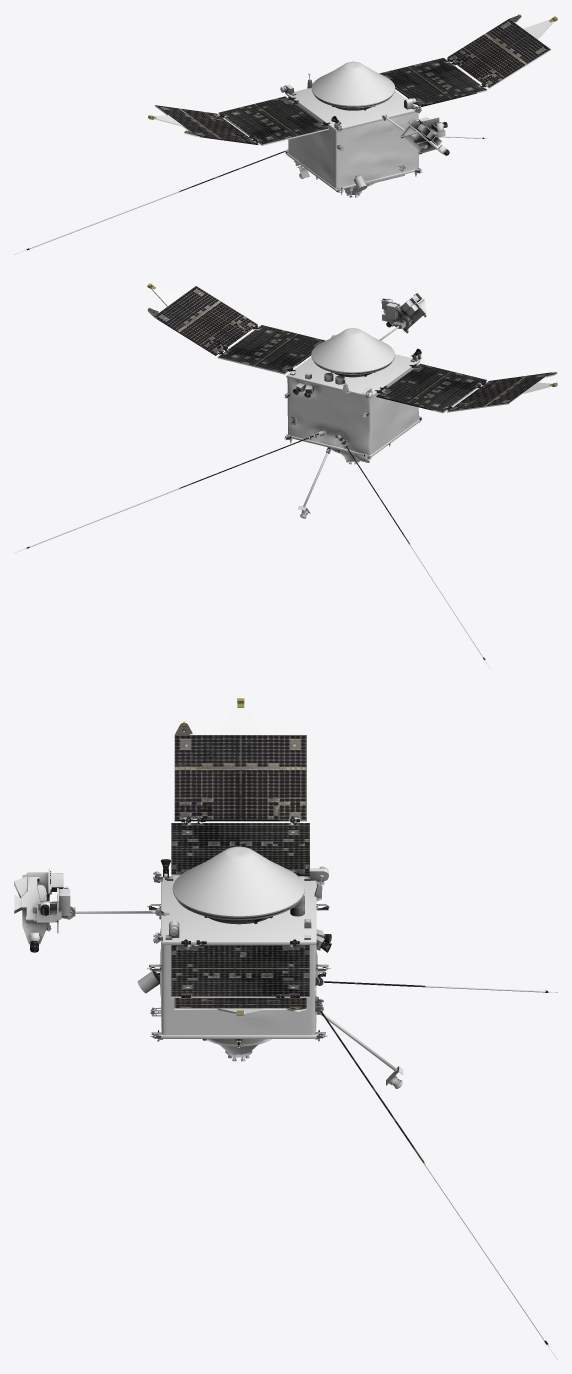
File: 24882_Maven.glb
3 renders of one model, top to bottom at view 1: azimuth 30°, elevation 25°; view 2: azimuth 150°, elevation 25°; view 3: azimuth 270°, elevation 25°, orthographic. The views are drawn at different scales.
Parts seen in each view (by area): view 1: shiny_panel, BUS, foil_silver, tex_01, parts, dish_frame; view 2: shiny_panel, BUS, tex_01, foil_silver, parts; view 3: shiny_panel, BUS, foil_silver, parts, tex_01.
Boxes of the visible parts, x1,y1,x2,y2 form: shiny_panel: [155, 19, 550, 144]; BUS: [286, 88, 446, 190]; foil_silver: [311, 61, 395, 105]; tex_01: [14, 15, 553, 254]; parts: [148, 14, 557, 197]; dish_frame: [311, 89, 395, 110]; shiny_panel: [154, 286, 550, 411]; BUS: [286, 298, 419, 506]; tex_01: [14, 286, 557, 668]; foil_silver: [311, 328, 394, 372]; parts: [147, 283, 557, 518]; shiny_panel: [171, 735, 309, 1008]; BUS: [30, 876, 397, 1071]; foil_silver: [172, 846, 304, 916]; parts: [14, 698, 403, 1088]; tex_01: [30, 705, 557, 1359].
Bounding box in the file's own units: 13.13 × 5.42 × 8.22.
Materials: 11 (9 with a texture image).
